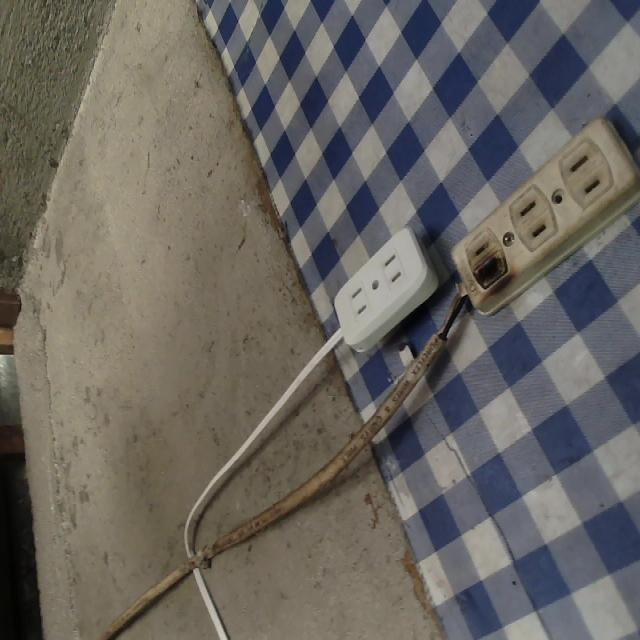-: (467, 247, 518, 300)
